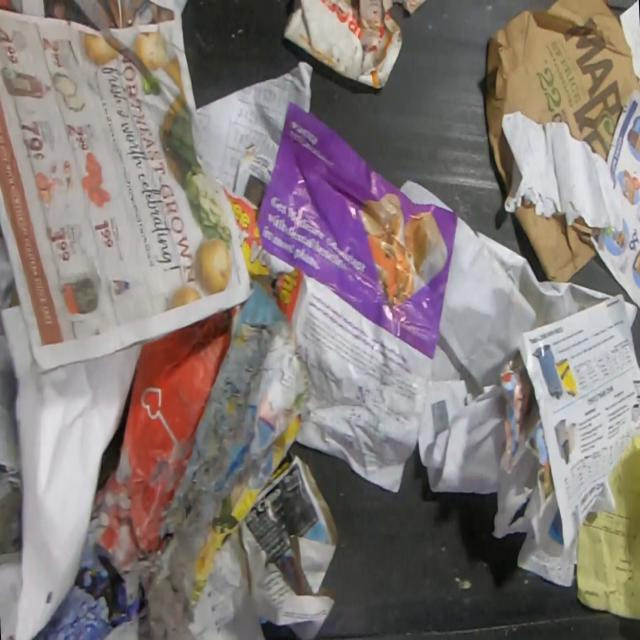cardboard: (484, 0, 640, 198), (282, 0, 403, 90), (513, 200, 601, 282)
